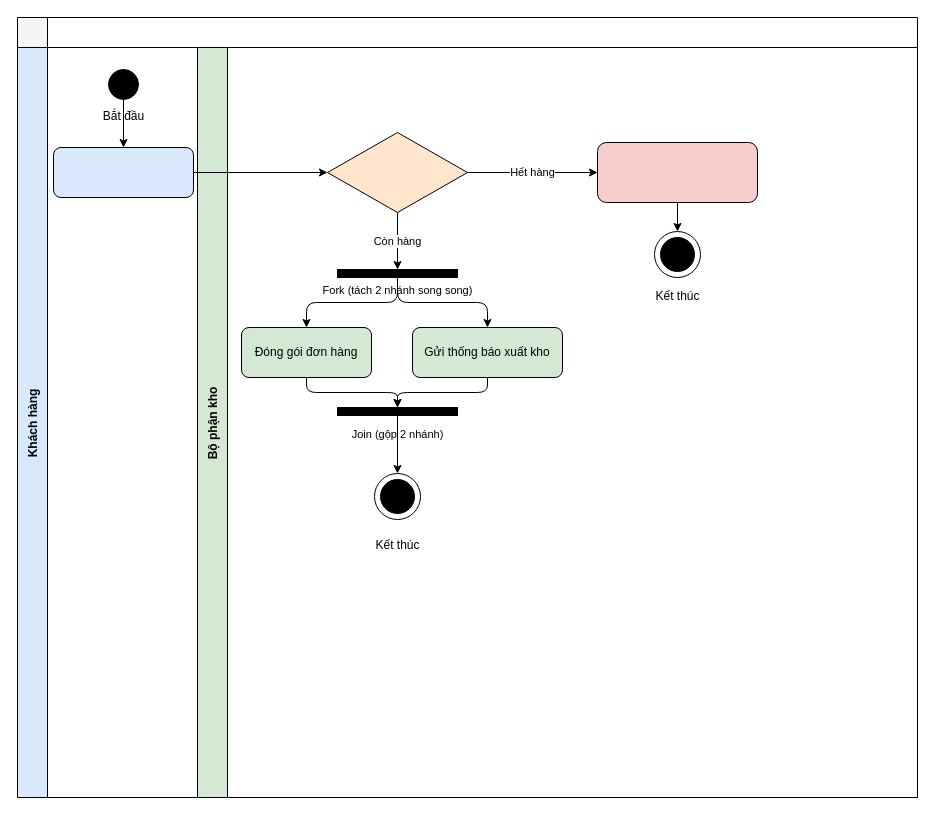
Image size: 935x815. Some labels were removed from this diagram. Here are the shapes that lost their labels. From the top down, the centre of each, then its label:
At (123,172): "Đặt đơn hàng".
At (397,172): "Kiểm tra tồn kho ?".
At (677,172): "Báo hoàn tiền (kho hết hàng)".
